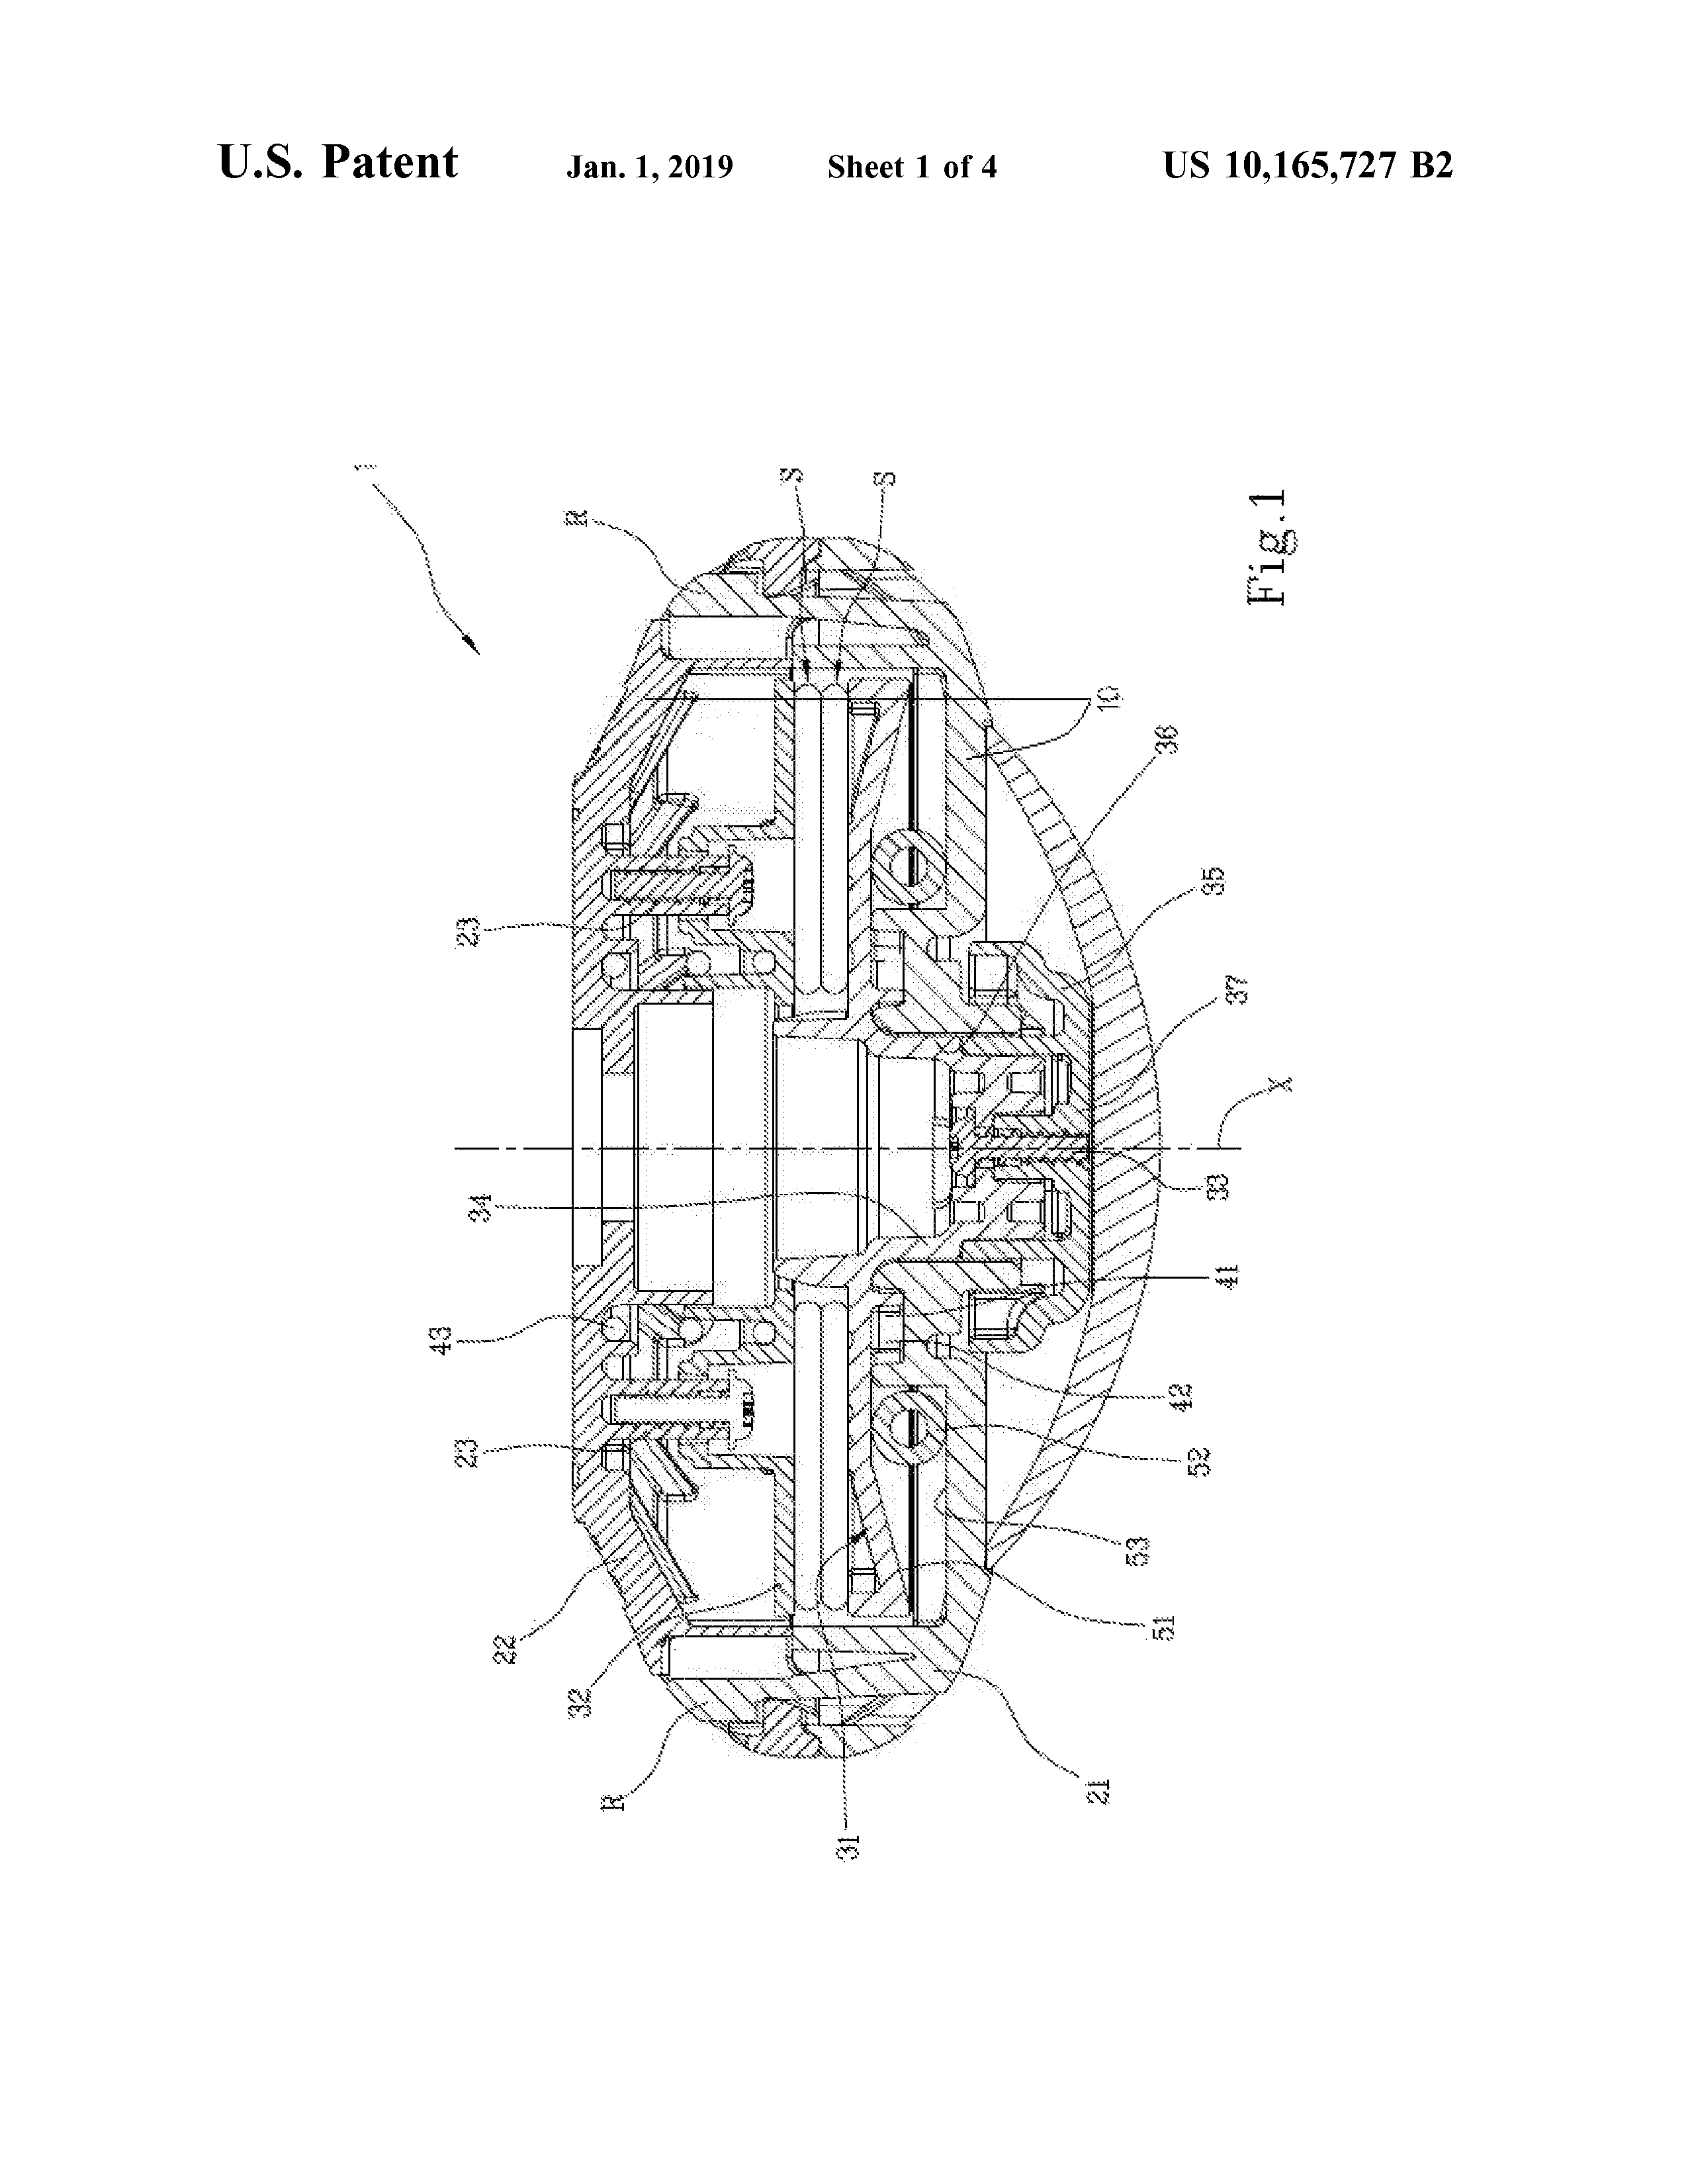patent image: (302, 314, 1406, 1994)
